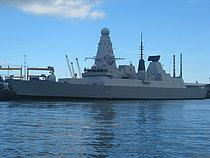MIL_Ship: (6, 26, 208, 100)
